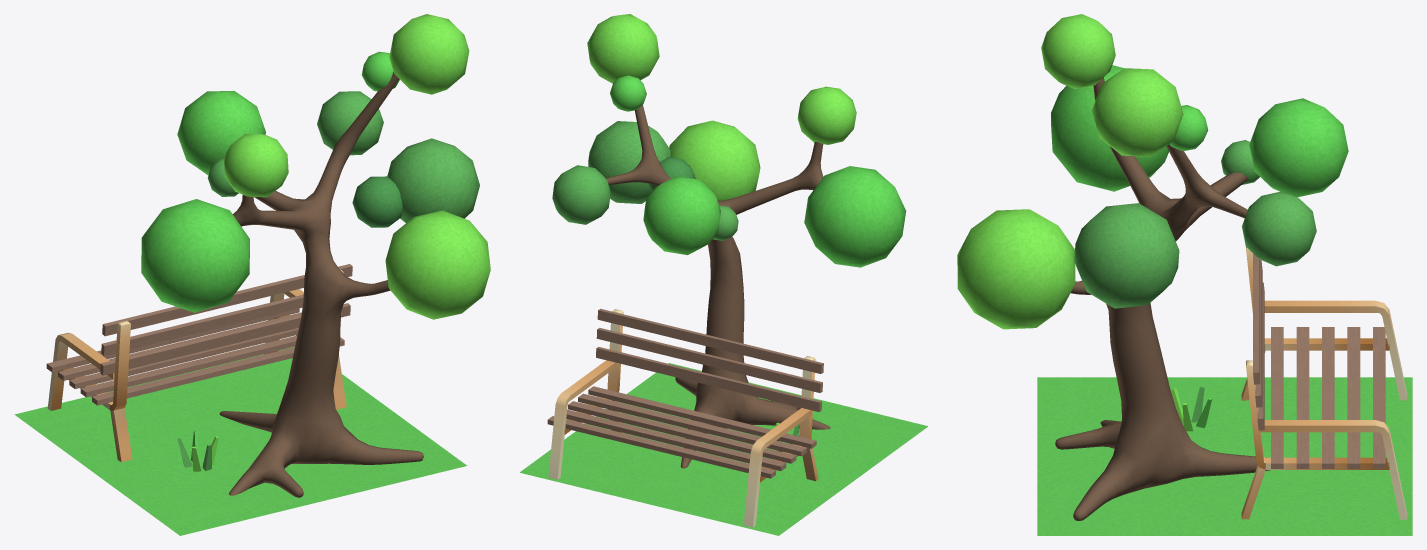
Rendered from park_11.fbx.
The picture shows the model from 3 angles, left to right: view 1: azimuth 30°, elevation 25°; view 2: azimuth 150°, elevation 25°; view 3: azimuth 270°, elevation 25°; orthographic projection. The views are drawn at different scales.
Parts seen in each view (by area): view 1: tree.003, park_green.018, park_bench.003, grass.028; view 2: tree.003, park_bench.003, park_green.018; view 3: tree.003, park_green.018, park_bench.003, grass.028.
Part boxes in pixels (x1,y1,x2,y2): tree.003: (141,14,490,497); park_green.018: (14,346,466,535); park_bench.003: (46,264,352,461); grass.028: (177,431,218,471); tree.003: (552,14,906,468); park_bench.003: (547,308,823,527); park_green.018: (520,363,927,535); tree.003: (957,14,1348,520); park_green.018: (1037,377,1412,535); park_bench.003: (1241,247,1407,519); grass.028: (1171,386,1212,431).
Size of the model in its own units: 2.31 by 2.79 by 2.43.
2 materials, 2 textured.
